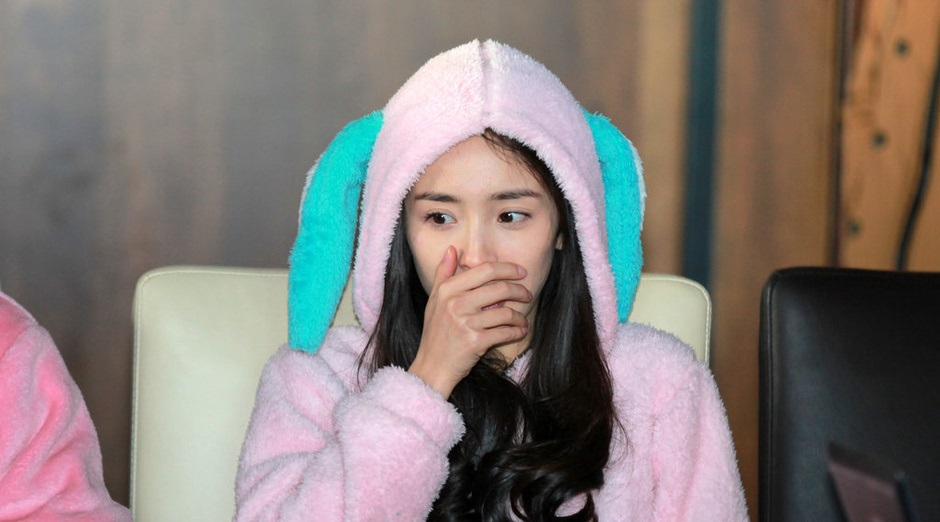face_mask: (404, 145, 558, 334)
